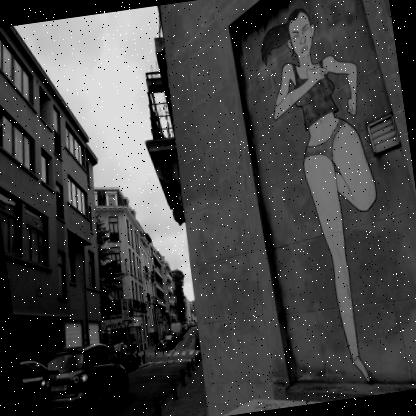Car: (29, 340, 133, 415), (19, 354, 52, 404), (155, 320, 198, 352), (108, 338, 139, 373), (162, 330, 178, 350), (190, 318, 196, 326), (183, 326, 188, 330), (186, 322, 190, 326)
